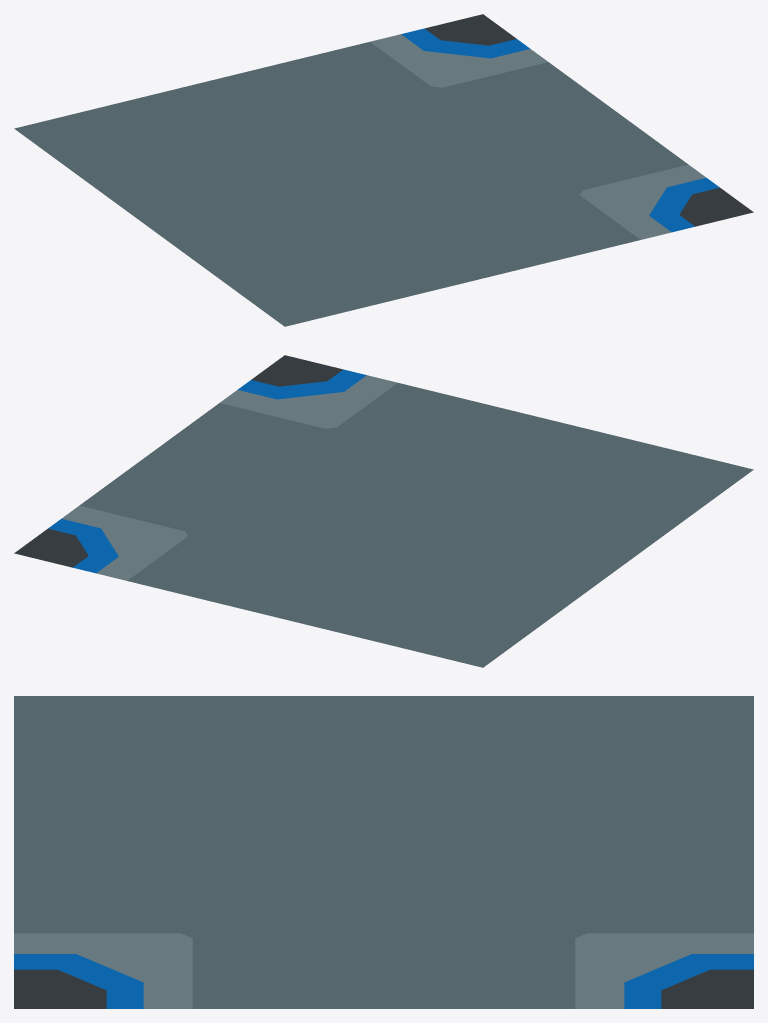
Rendered from Ceiling_type_C_027.fbx.
3 views of the same model, one above another, from view 1: azimuth 30°, elevation 25°; view 2: azimuth 150°, elevation 25°; view 3: azimuth 270°, elevation 25° (orthographic). The views are drawn at different scales.
Parts seen in each view (by area): view 1: Ceiling_type_C_027; view 2: Ceiling_type_C_027; view 3: Ceiling_type_C_027.
Boxes of the visible parts, bbox=[...] form: Ceiling_type_C_027: bbox=[14, 14, 753, 326]; Ceiling_type_C_027: bbox=[14, 355, 753, 667]; Ceiling_type_C_027: bbox=[14, 696, 753, 1008].
Size of the model in its own units: 400 by 400 by 6.18.
